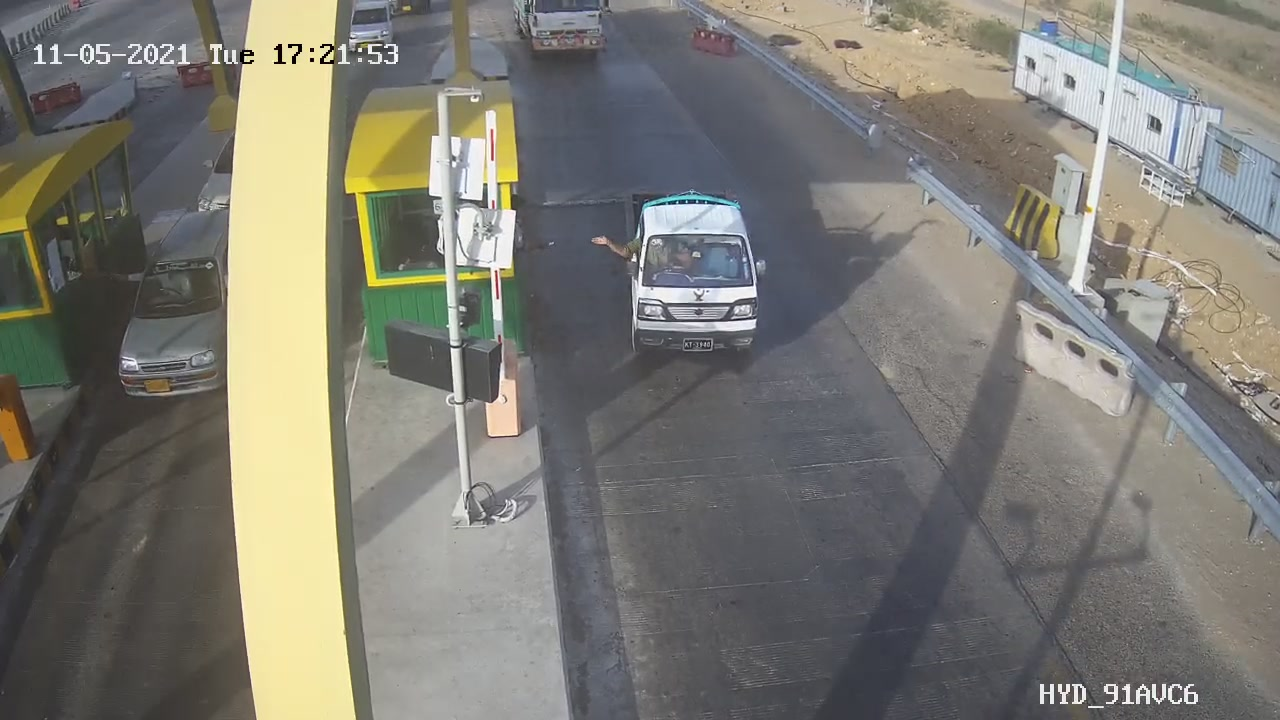F1: (608, 172, 781, 382)
